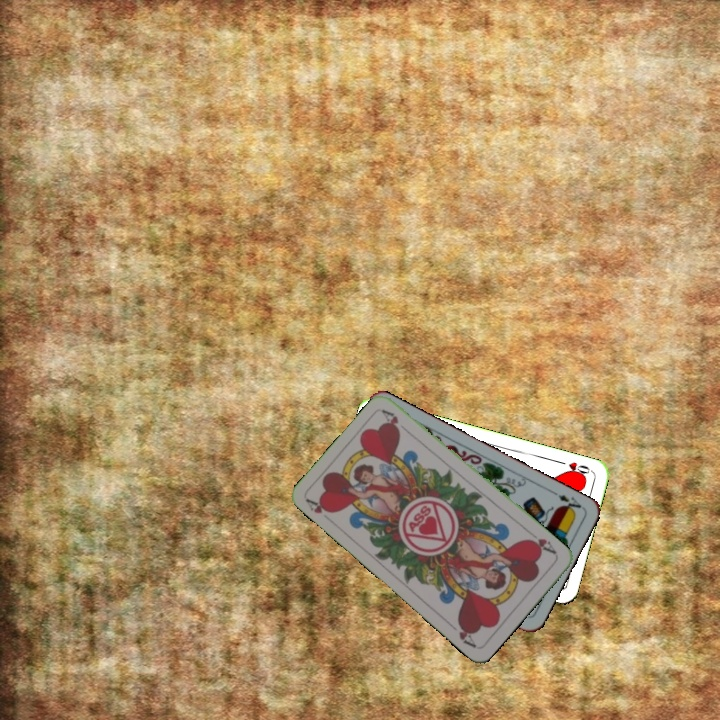EA: (548, 487, 585, 516)
HA: (522, 527, 559, 557), (302, 495, 337, 516)
HO: (554, 457, 594, 480)
